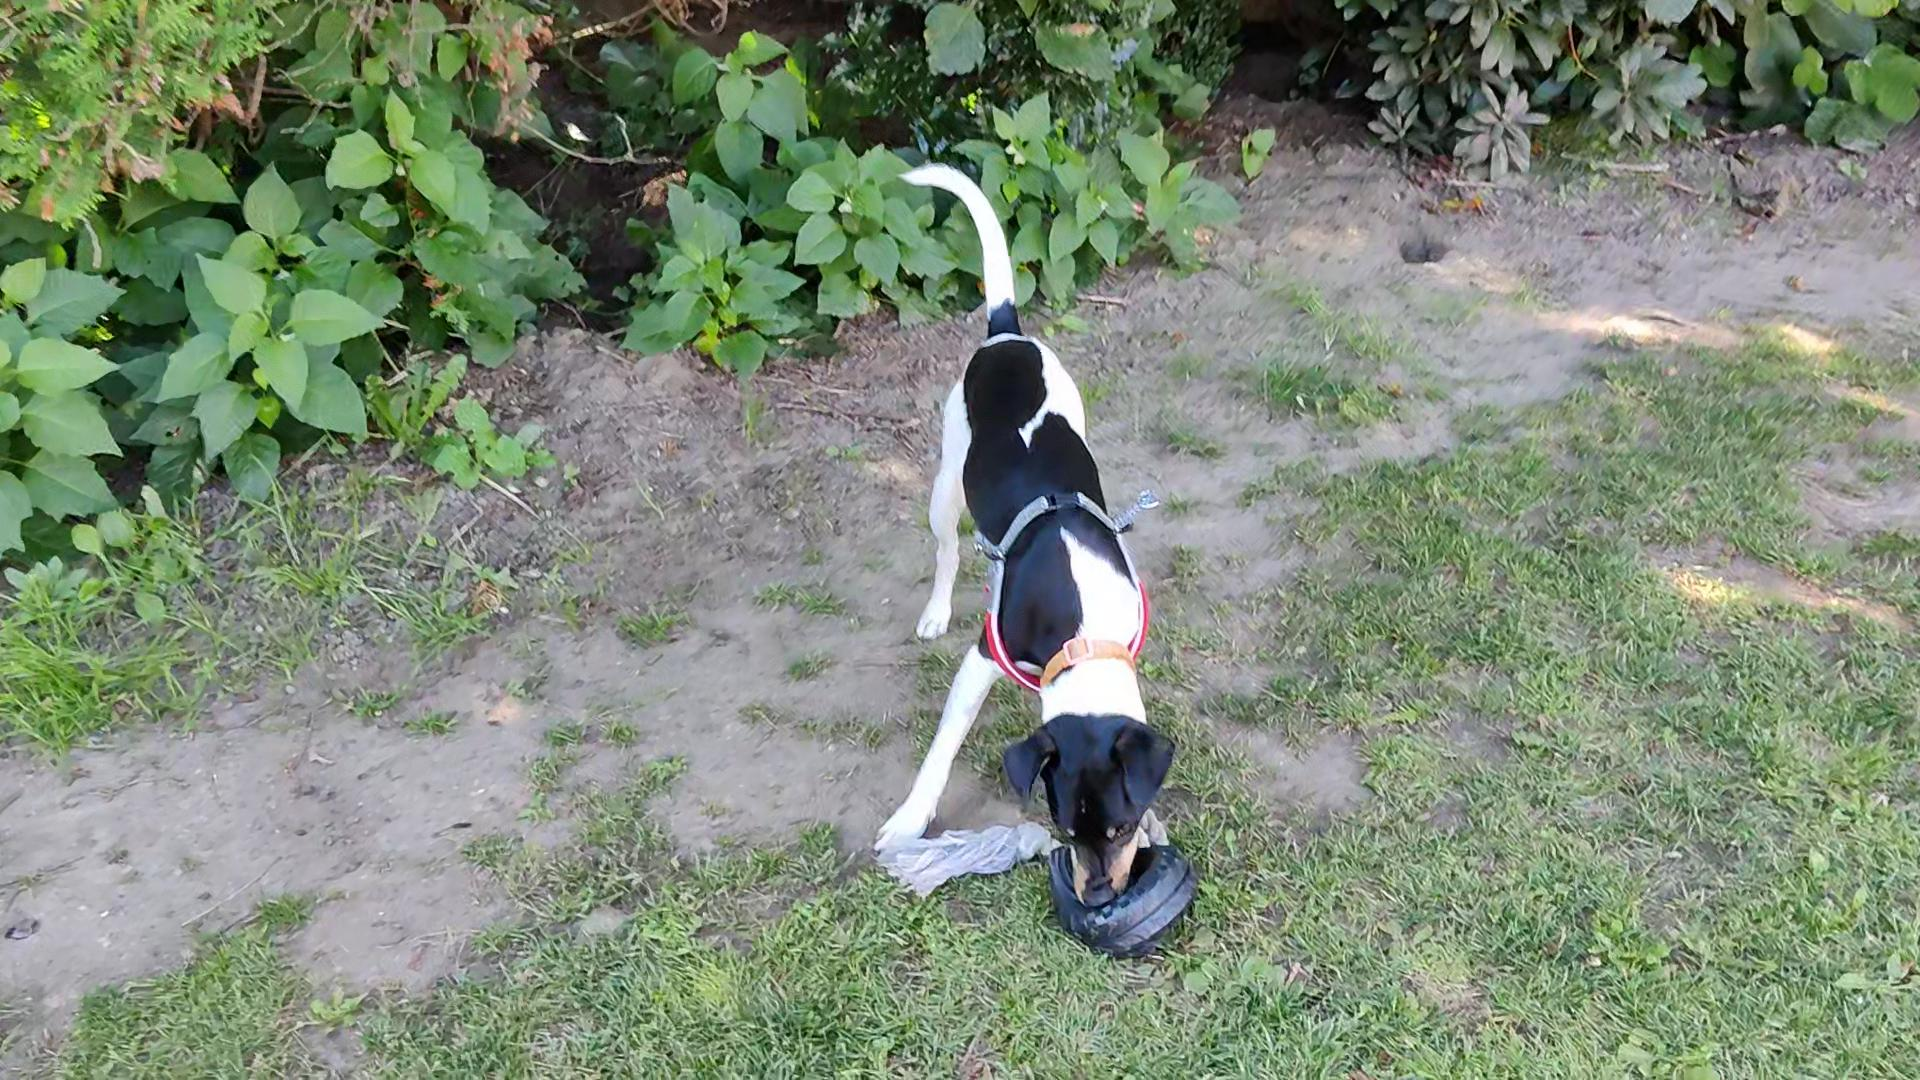Dog: (865, 145, 1176, 915)
